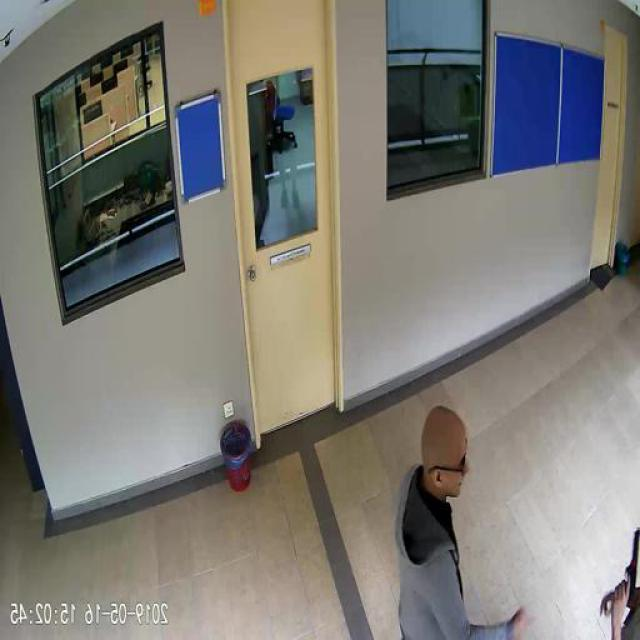Gun: (614, 526, 639, 601)
